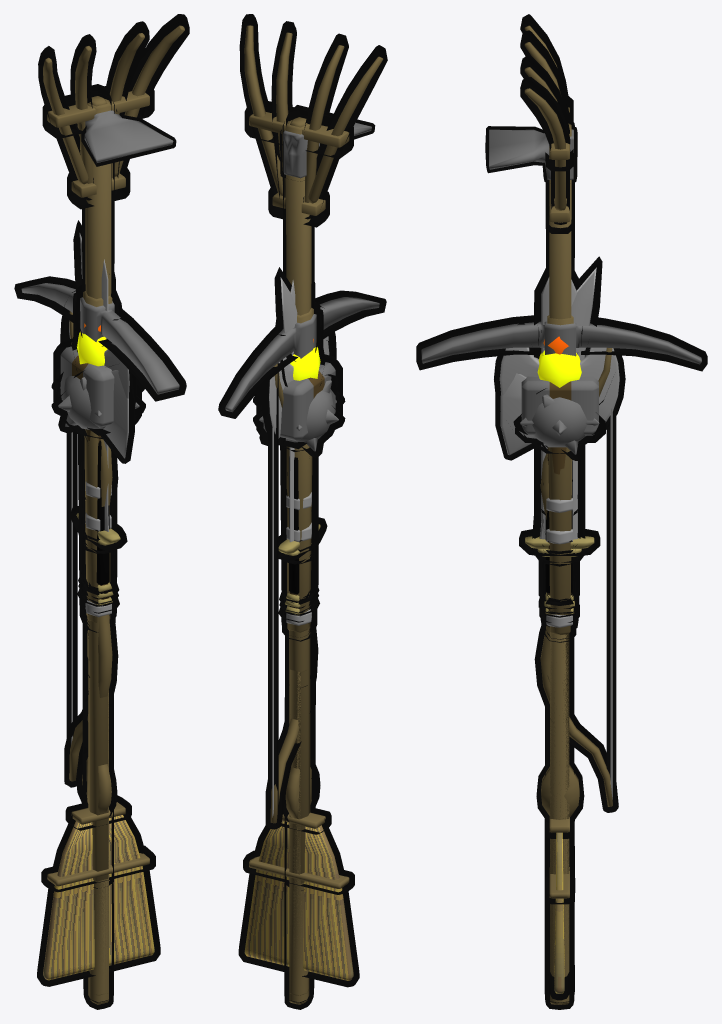
The model's file is weapons.glb.
The picture shows the model from 3 angles, left to right: view 1: azimuth 30°, elevation 25°; view 2: azimuth 150°, elevation 25°; view 3: azimuth 270°, elevation 25°; orthographic projection. The views are drawn at different scales.
Parts seen in each view (by area): view 1: Broom, Rake, PickAxe, Hoe, RecurveBow, StaffOrbed, WarHammer, StaffPlain, Mace, StirringSpoon, Axe, Cutlass (+3 smaller); view 2: Broom, Rake, PickAxe, RecurveBow, StaffOrbed, Hoe, WarHammer, Mace, StaffPlain, Cutlass, StirringSpoon, BattleAxe (+2 smaller); view 3: PickAxe, Hoe, RecurveBow, Rake, StaffPlain, StaffOrbed, BattleAxe, Cutlass, Broom, Mace, Broadsword, WarHammer (+3 smaller).
Boxes of the visible parts, bbox=[...] form: Broom: bbox=[37, 435, 160, 986]; Rake: bbox=[38, 14, 189, 677]; PickAxe: bbox=[14, 276, 186, 632]; Hoe: bbox=[81, 93, 176, 626]; RecurveBow: bbox=[64, 307, 118, 787]; StaffOrbed: bbox=[71, 322, 116, 1002]; WarHammer: bbox=[53, 338, 141, 585]; StaffPlain: bbox=[83, 452, 113, 1009]; Mace: bbox=[51, 370, 145, 596]; StirringSpoon: bbox=[76, 471, 117, 816]; Axe: bbox=[84, 365, 134, 595]; Cutlass: bbox=[71, 220, 126, 599]; Broom: bbox=[238, 457, 359, 987]; Rake: bbox=[239, 14, 387, 688]; PickAxe: bbox=[218, 290, 386, 641]; RecurveBow: bbox=[265, 359, 318, 829]; StaffOrbed: bbox=[281, 337, 325, 1002]; Hoe: bbox=[280, 105, 375, 637]; WarHammer: bbox=[256, 354, 342, 595]; Mace: bbox=[253, 374, 345, 605]; StaffPlain: bbox=[284, 446, 313, 1009]; Cutlass: bbox=[274, 267, 326, 608]; StirringSpoon: bbox=[283, 483, 320, 822]; BattleAxe: bbox=[261, 306, 336, 623]; PickAxe: bbox=[416, 315, 707, 642]; Hoe: bbox=[485, 120, 577, 639]; RecurveBow: bbox=[534, 347, 618, 812]; Rake: bbox=[520, 14, 573, 686]; StaffPlain: bbox=[545, 557, 574, 1009]; StaffOrbed: bbox=[537, 350, 581, 1002]; BattleAxe: bbox=[494, 322, 625, 627]; Cutlass: bbox=[520, 256, 602, 608]; Broom: bbox=[544, 548, 575, 1000]; Mace: bbox=[513, 388, 605, 608]; Broadsword: bbox=[519, 262, 600, 622]; WarHammer: bbox=[515, 376, 605, 597].
Size of the model in its own units: 0.3288 by 2.11 by 0.5781.
13 materials, 1 textured.
